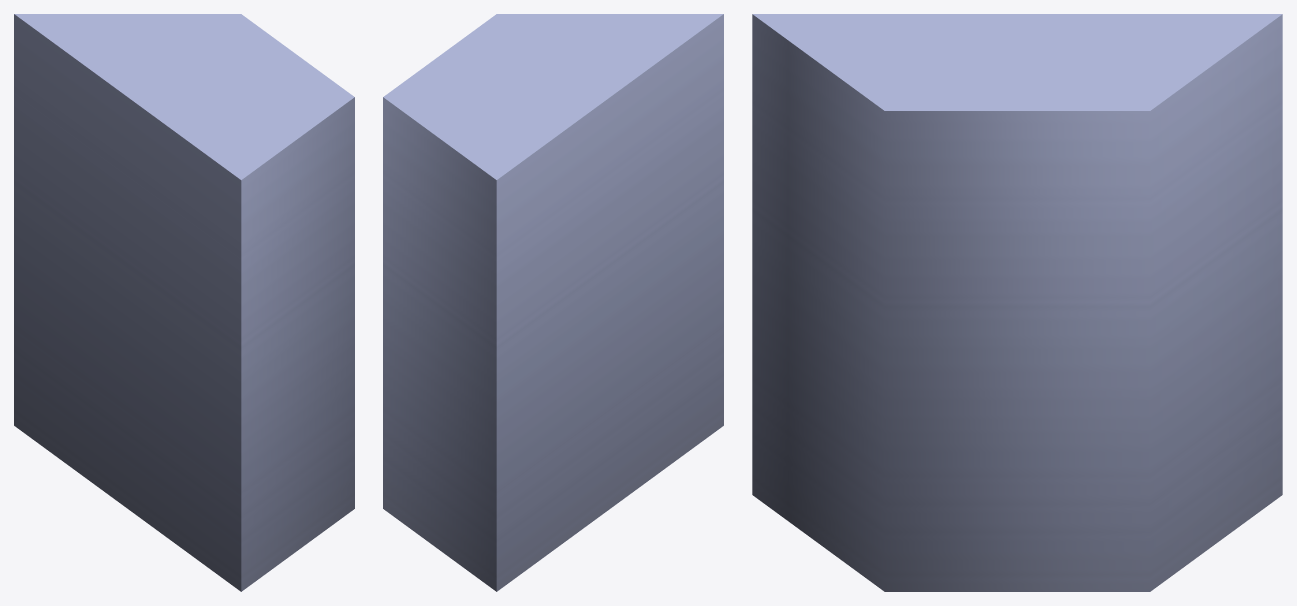
File: shape-hexagon-half.fbx
The picture shows the model from 3 angles, left to right: view 1: azimuth 30°, elevation 25°; view 2: azimuth 150°, elevation 25°; view 3: azimuth 270°, elevation 25°; orthographic projection. The views are drawn at different scales.
Visible parts, largest first — view 1: shape-hexagon-half; view 2: shape-hexagon-half; view 3: shape-hexagon-half.
Part boxes in pixels (x1,y1,x2,y2): shape-hexagon-half: [14, 14, 354, 591]; shape-hexagon-half: [383, 14, 723, 591]; shape-hexagon-half: [752, 14, 1282, 591].
Size of the model in its own units: 43.3 by 100 by 100.
